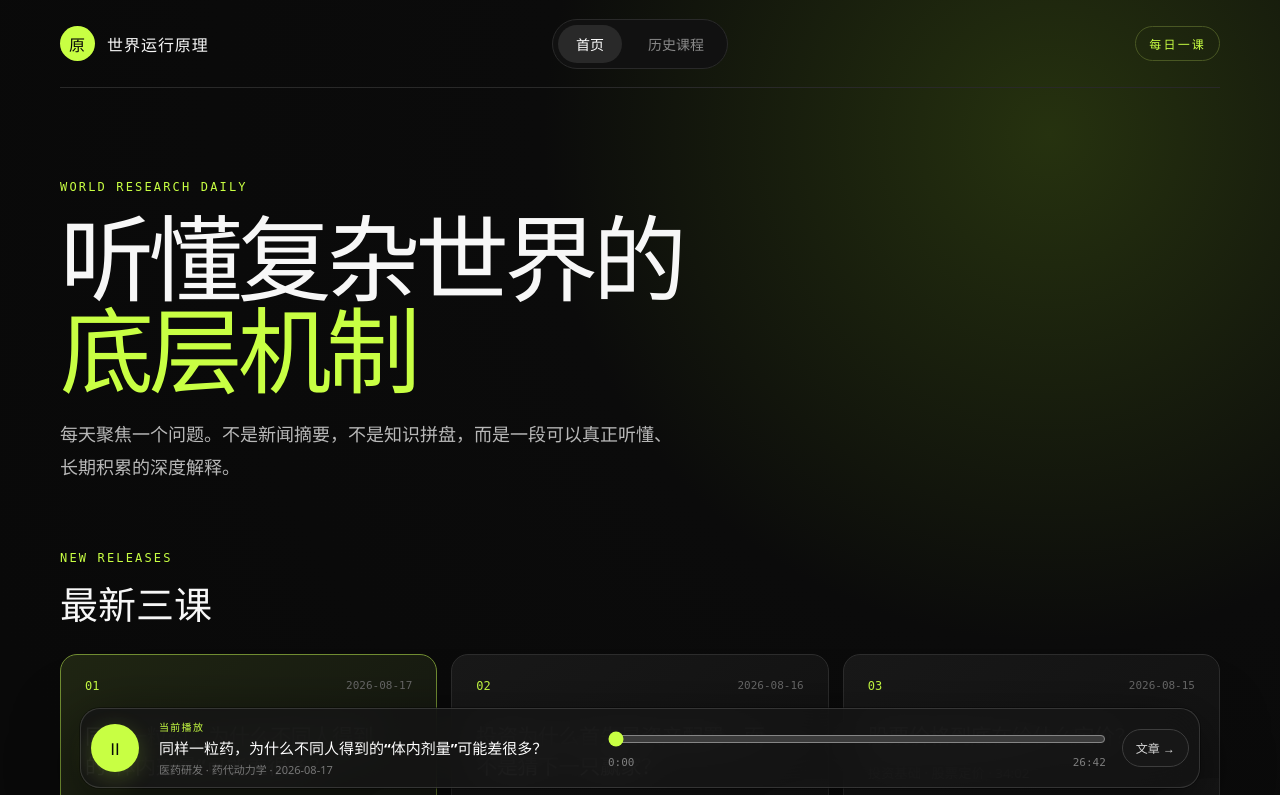
Test: continuous player behavior › keeps audio playing while navigating from home to history
Click the button "历史课程" at (676, 44), box [630,24,722,62]
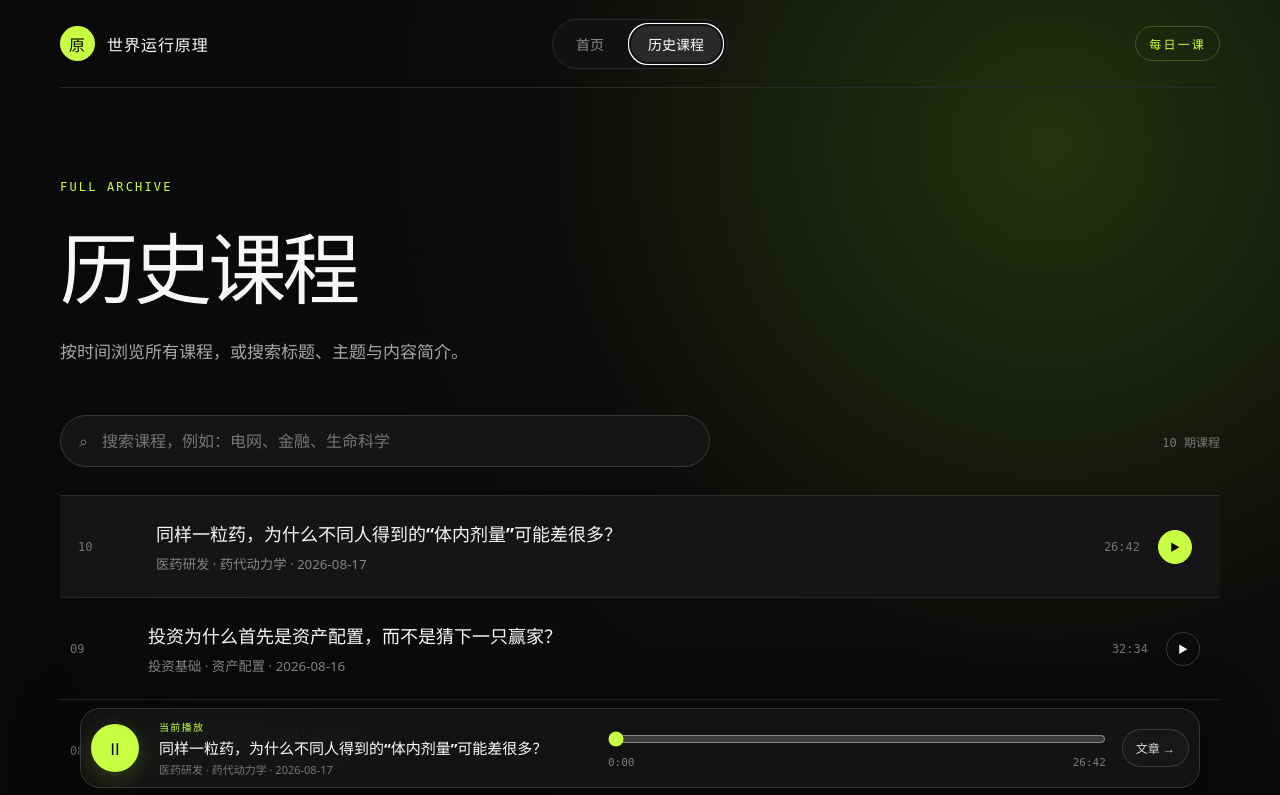
expect the heading "历史课程" is shown: met, box [60,215,356,321]
